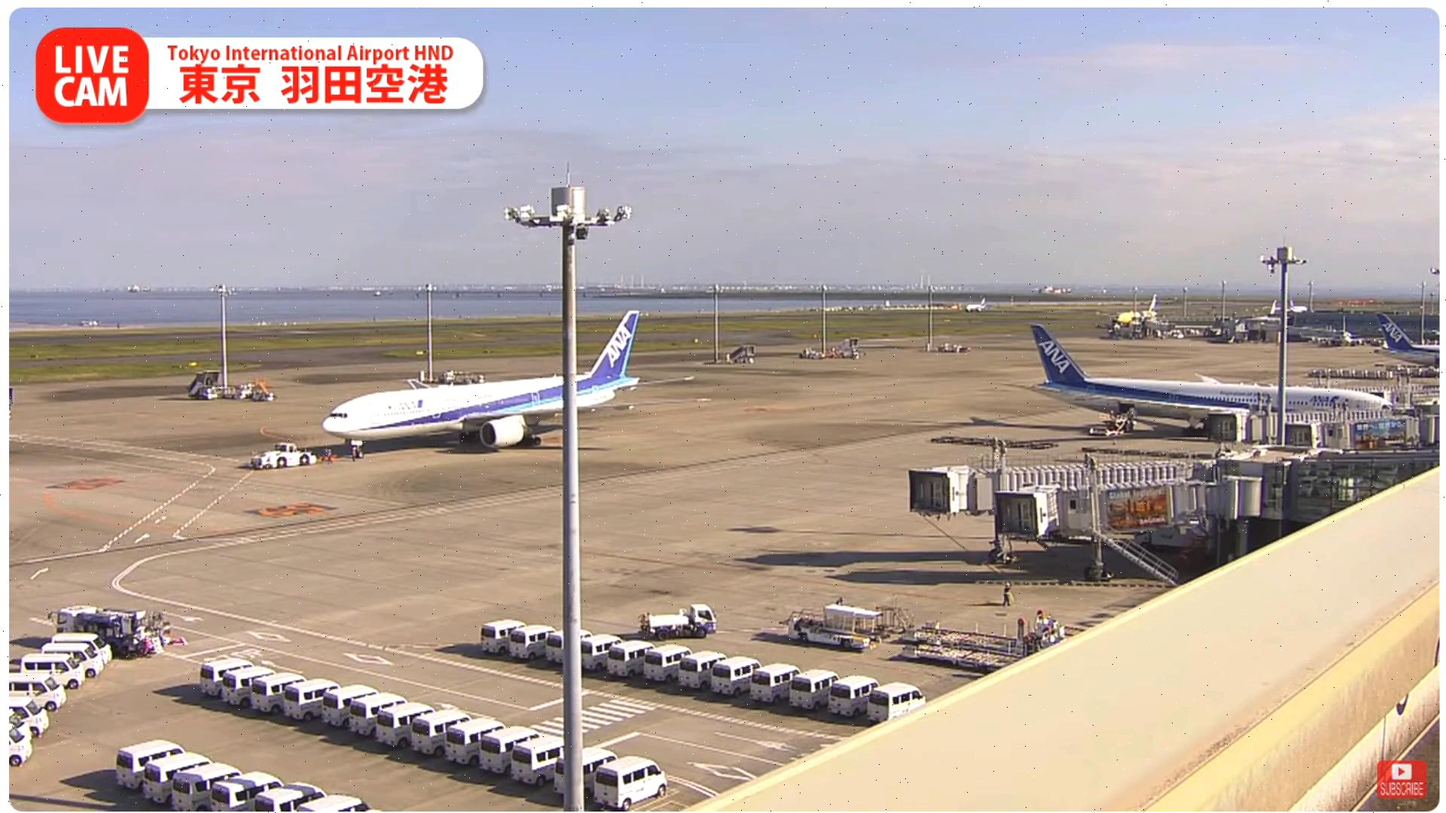APS: (248, 439, 317, 469)
Aerobridge: (885, 461, 1213, 512), (956, 480, 1243, 535)
Airplane: (322, 307, 723, 458)
JCPL: (920, 616, 1080, 657), (885, 630, 1035, 673)
Skyloader: (784, 606, 918, 657)
Window: (1270, 448, 1442, 536)
